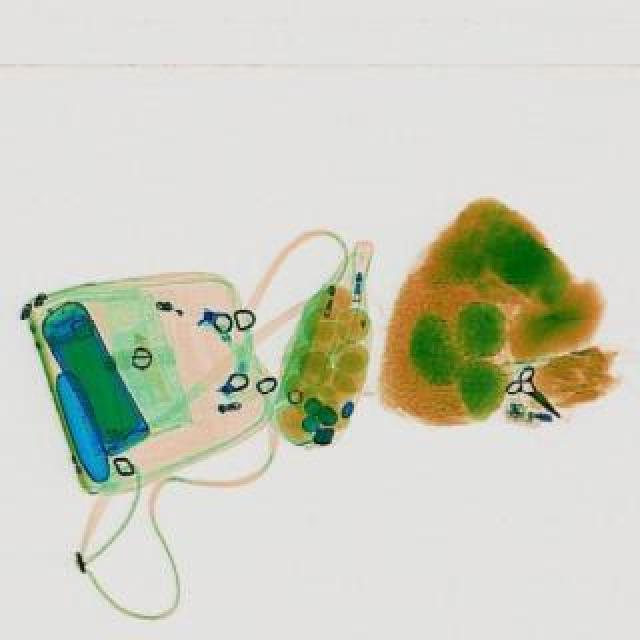pliers: (506, 362, 578, 426)
